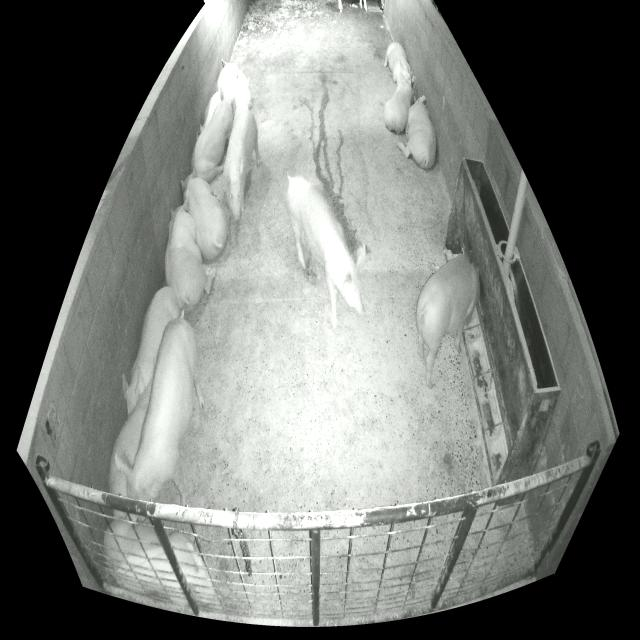pig: (116, 310, 205, 505), (286, 175, 366, 329), (103, 519, 215, 609), (416, 255, 480, 389), (122, 287, 181, 415), (108, 379, 152, 496), (219, 106, 260, 222), (164, 200, 206, 312), (180, 167, 227, 260), (191, 86, 236, 183), (397, 95, 436, 169), (385, 75, 415, 134), (216, 60, 252, 109), (384, 42, 411, 86), (200, 92, 220, 133)
